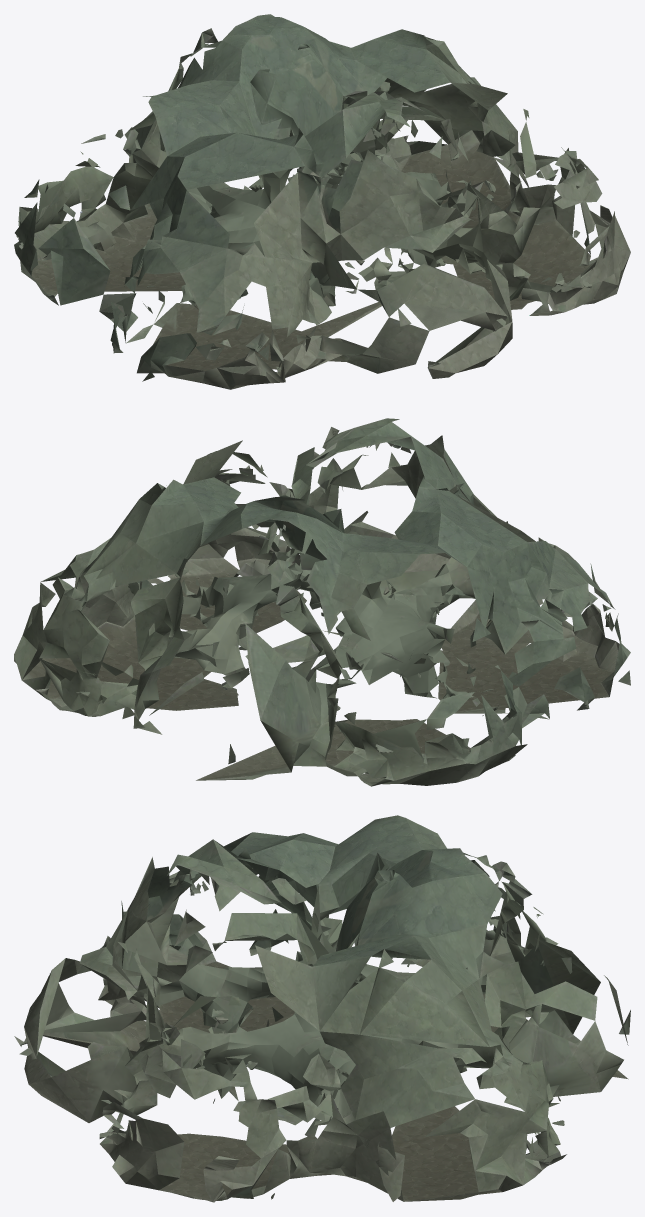
File: wh-bush-a-meshy.glb
3 renders of one model, top to bottom at view 1: azimuth 30°, elevation 25°; view 2: azimuth 150°, elevation 25°; view 3: azimuth 270°, elevation 25°, orthographic. The views are drawn at different scales.
Size of the model in its own units: 1.75 by 0.7525 by 1.79.
1 material, 1 textured.
